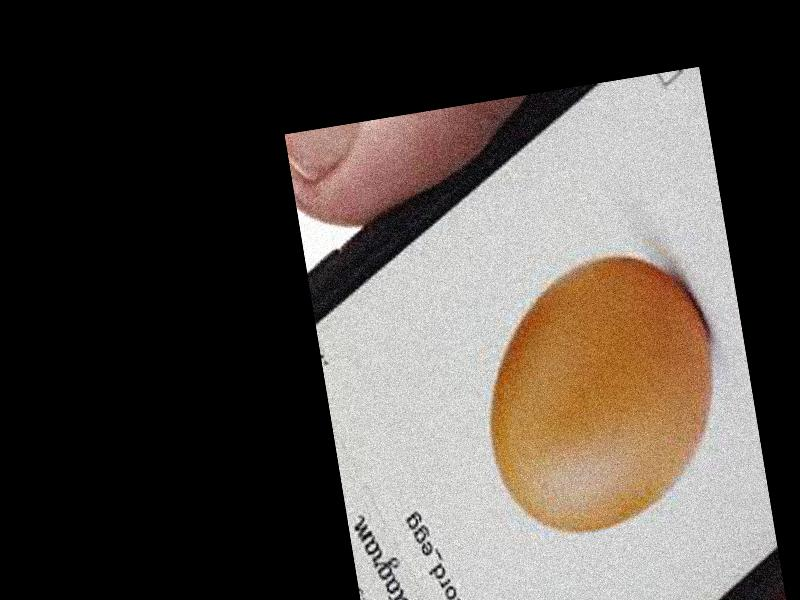Eggs: (465, 244, 735, 543)
